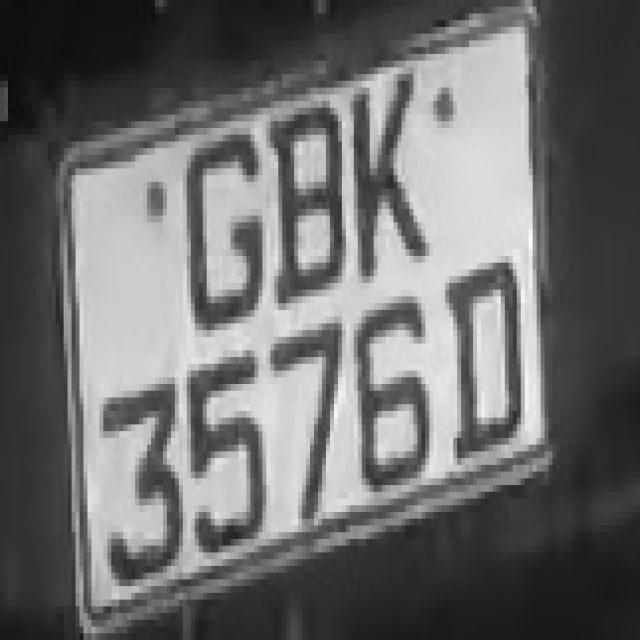3: (91, 357, 187, 600)
5: (175, 330, 270, 559)
6: (346, 263, 429, 525)
7: (258, 310, 354, 546)
B: (266, 80, 346, 316)
D: (437, 249, 537, 465)
G: (175, 121, 266, 330)
K: (350, 47, 425, 283)
